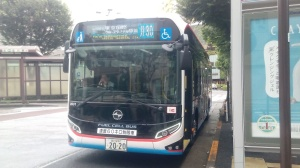destination: (85, 21, 157, 42)
